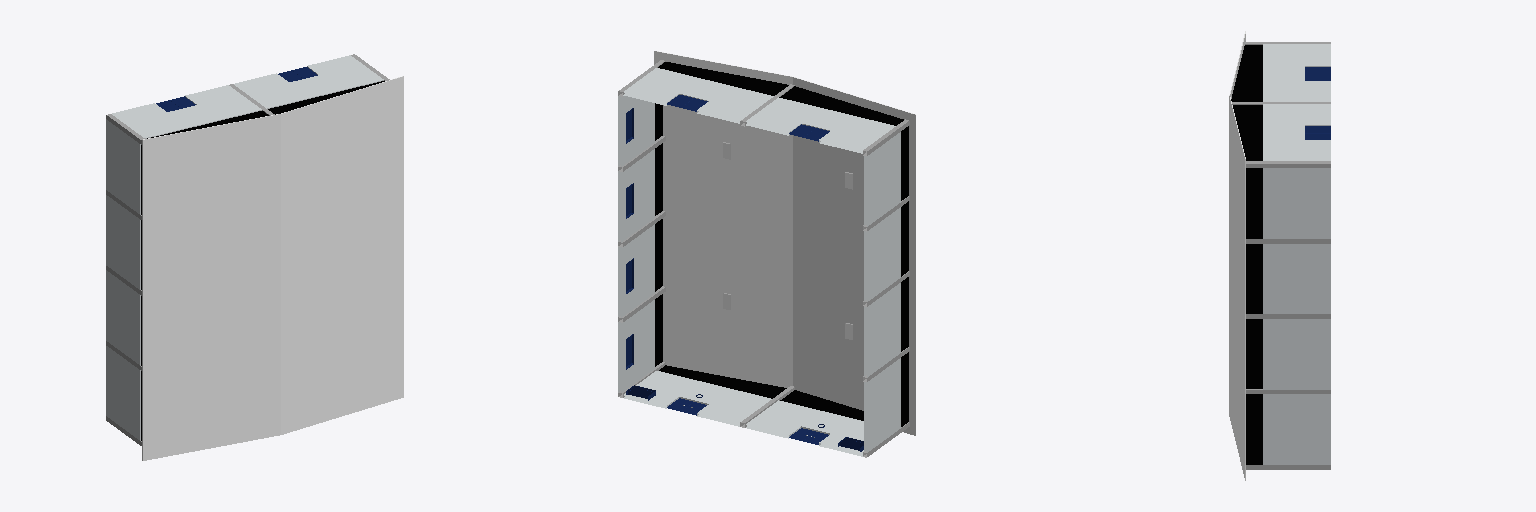
3 views of the same model, side by side, from view 1: azimuth 30°, elevation 25°; view 2: azimuth 150°, elevation 25°; view 3: azimuth 270°, elevation 25° (orthographic).
Visible parts, largest first — view 1: ciling, walls001, walls002, columns001, windows002, doors; view 2: ciling, walls001, walls002, windows002, windows001, columns001, doors, boards_base, columns002; view 3: walls001, walls002, ciling, windows001, windows002, columns001, doors.
Part boxes in pixels (left/top/right/bottom): ciling: left=142, top=76, right=403, bottom=460; walls001: left=106, top=119, right=140, bottom=440; walls002: left=112, top=55, right=383, bottom=138; columns001: left=106, top=54, right=389, bottom=445; windows002: left=147, top=81, right=384, bottom=138; doors: left=156, top=67, right=317, bottom=111; ciling: left=654, top=51, right=915, bottom=435; walls001: left=618, top=96, right=900, bottom=452; walls002: left=623, top=68, right=895, bottom=456; windows002: left=658, top=62, right=903, bottom=420; windows001: left=655, top=103, right=908, bottom=426; columns001: left=618, top=60, right=909, bottom=457; doors: left=667, top=95, right=829, bottom=444; boards_base: left=626, top=108, right=633, bottom=369; columns002: left=740, top=84, right=794, bottom=427; walls001: left=1263, top=168, right=1330, bottom=464; walls002: left=1263, top=44, right=1330, bottom=160; ciling: left=1229, top=31, right=1245, bottom=480; windows001: left=1246, top=168, right=1262, bottom=464; windows002: left=1231, top=45, right=1262, bottom=160; columns001: left=1245, top=42, right=1330, bottom=469; doors: left=1305, top=67, right=1330, bottom=139.
Bounding box in the file's own units: 35.8 × 42 × 12.